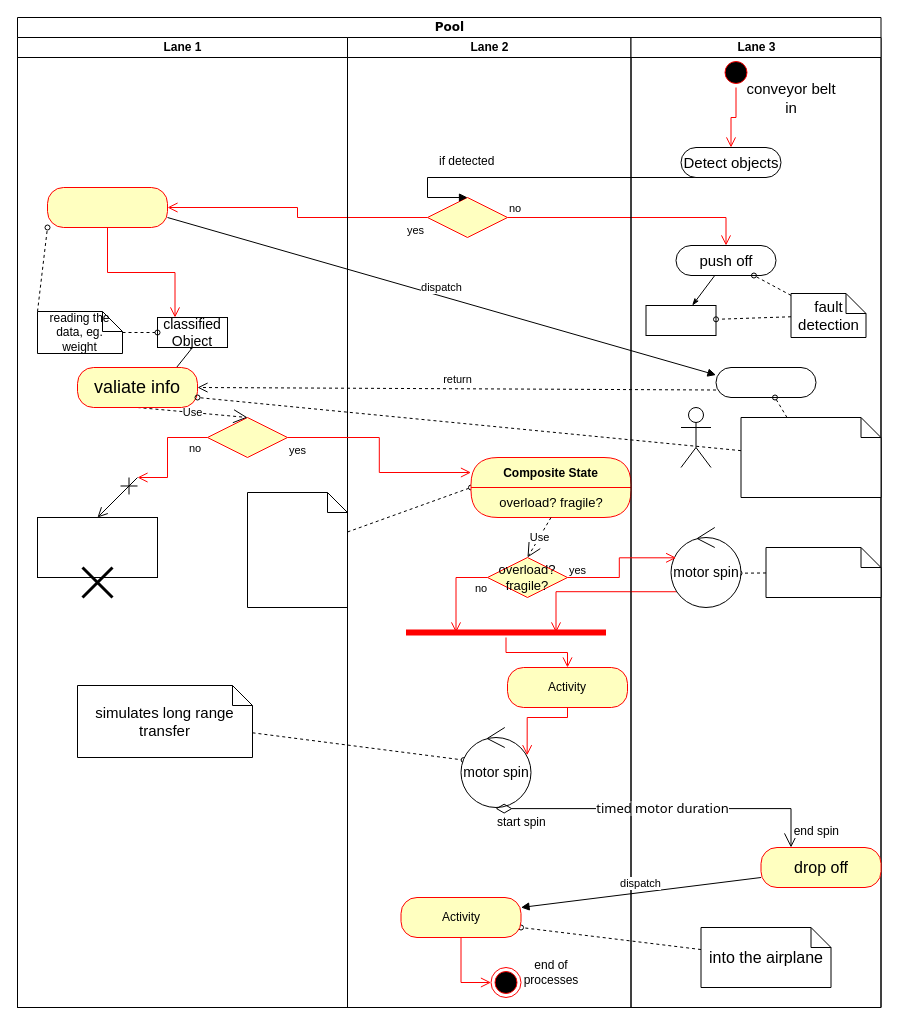
Image size: 899x1025. Some labels were removed from this diagram. The centre of each missing label's shape, as x and y in pixels:
"both info agreed?" goes at point (247, 437).
"decide whether we need to use a new cart" goes at point (297, 550).
"ensuring the lecturer has not stuck a pencil in our system; fail safe" goes at point (810, 457).
"lecturer" goes at point (695, 437).
"nextCart()" goes at point (823, 572).
"NFC decode" goes at point (107, 207).
"Object disposed" goes at point (680, 320).
"receiving info from another group" goes at point (765, 382).
"terminate the entire machine" goes at point (97, 547).
"valid object?" goes at point (467, 217).
